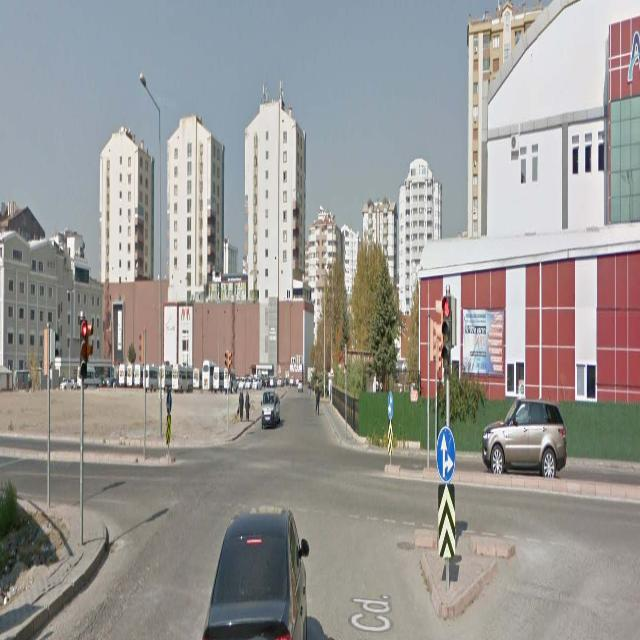ilerisag: (436, 428, 455, 480)
ilerisol: (388, 391, 393, 417), (166, 391, 171, 414)
kirmizi: (442, 297, 450, 369), (80, 320, 86, 376)
